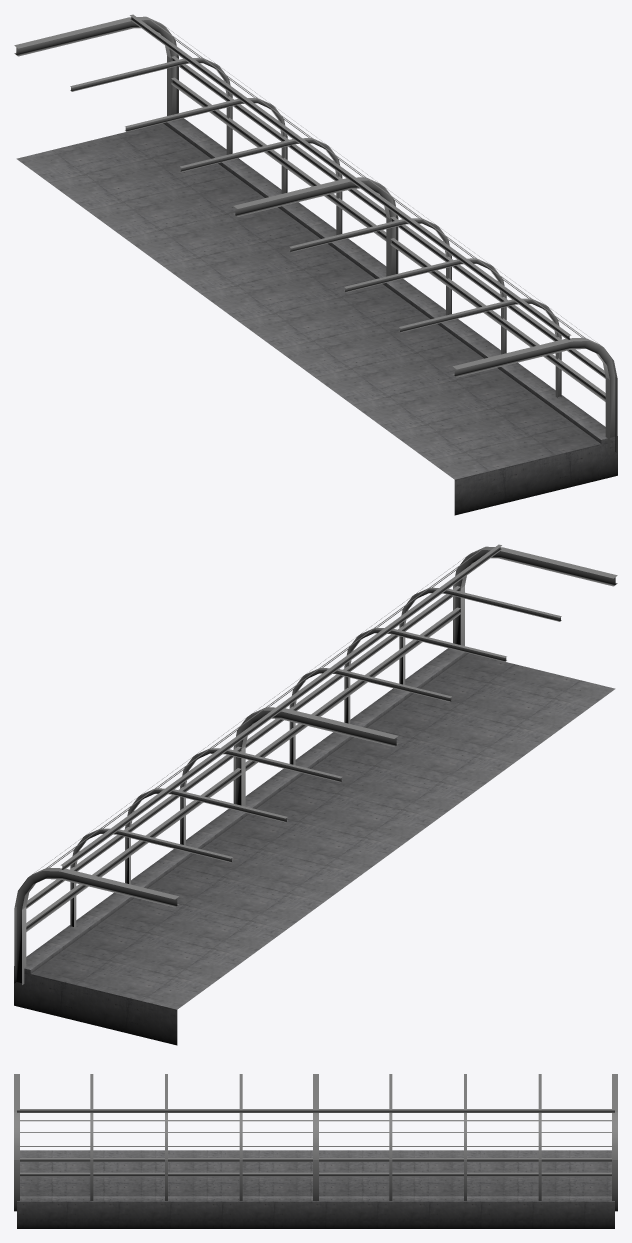
File: AMB_RINKU_SIDE.glb
The picture shows the model from 3 angles, top to bottom: view 1: azimuth 30°, elevation 25°; view 2: azimuth 150°, elevation 25°; view 3: azimuth 270°, elevation 25°; orthographic projection. The views are drawn at different scales.
Parts seen in each view (by area): view 1: BASE; view 2: BASE; view 3: BASE.
Part boxes in pixels (x1,y1,x2,y2): BASE: (14,14,617,515); BASE: (14,544,617,1045); BASE: (14,1074,617,1228).
Size of the model in its own units: 21.5 by 19.07 by 101.
Materials: 2 (2 with a texture image).
